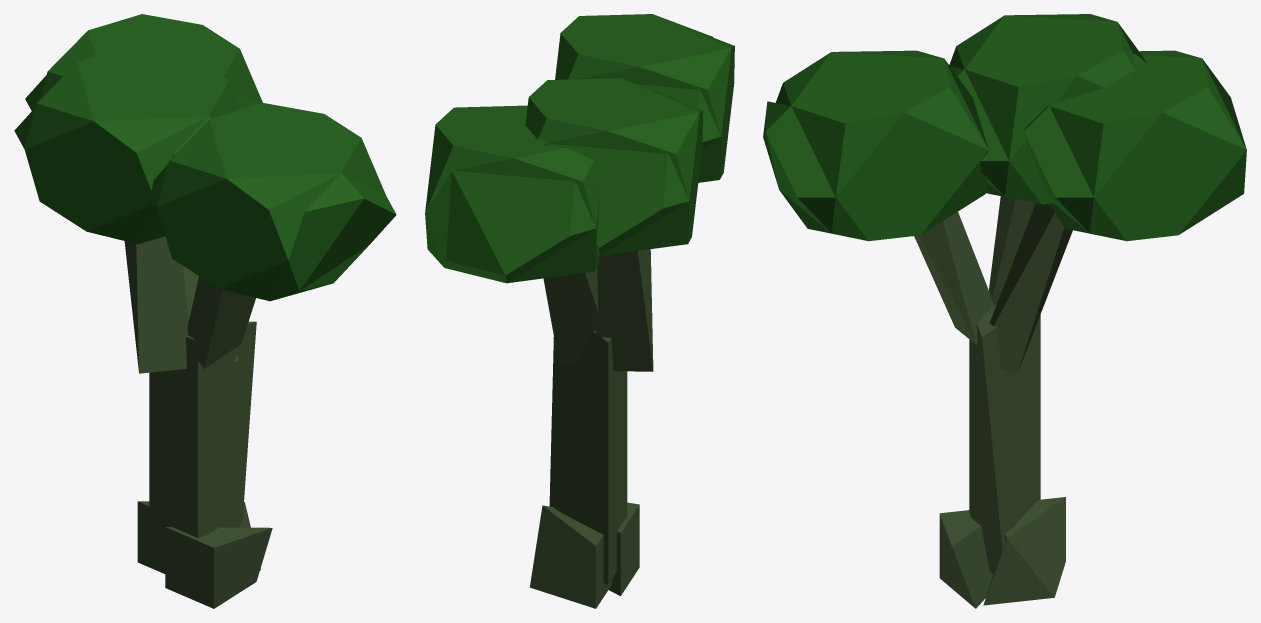
The picture shows the model from 3 angles, left to right: view 1: azimuth 30°, elevation 25°; view 2: azimuth 150°, elevation 25°; view 3: azimuth 270°, elevation 25°; orthographic projection. The views are drawn at different scales.
Parts seen in each view (by area): view 1: 立方体.007, 立方体.012; view 2: 立方体.007, 立方体.012; view 3: 立方体.007, 立方体.012.
Boxes of the visible parts, left/top/right/bottom form: 立方体.007: left=14, top=14, right=396, bottom=301; 立方体.012: left=124, top=236, right=272, bottom=608; 立方体.007: left=425, top=14, right=734, bottom=283; 立方体.012: left=530, top=249, right=653, bottom=608; 立方体.007: left=763, top=14, right=1246, bottom=241; 立方体.012: left=914, top=196, right=1072, bottom=608.
Size of the model in its own units: 551 by 1083 by 897.
